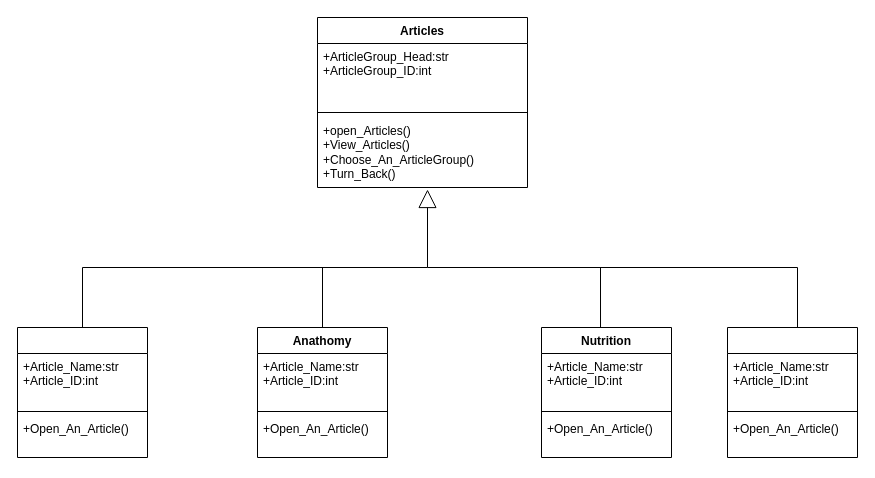
This 875x478 diagram has some shape labels left out. The shapes that lost their labels are listed below. From the top down, each one's box as (x1, y1, x2, y2) in pixels, then its label:
(16, 326, 148, 458): Ergocenic Supporters
(726, 326, 858, 458): Sport
